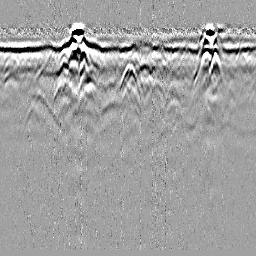cavity: (118, 62, 140, 97)
